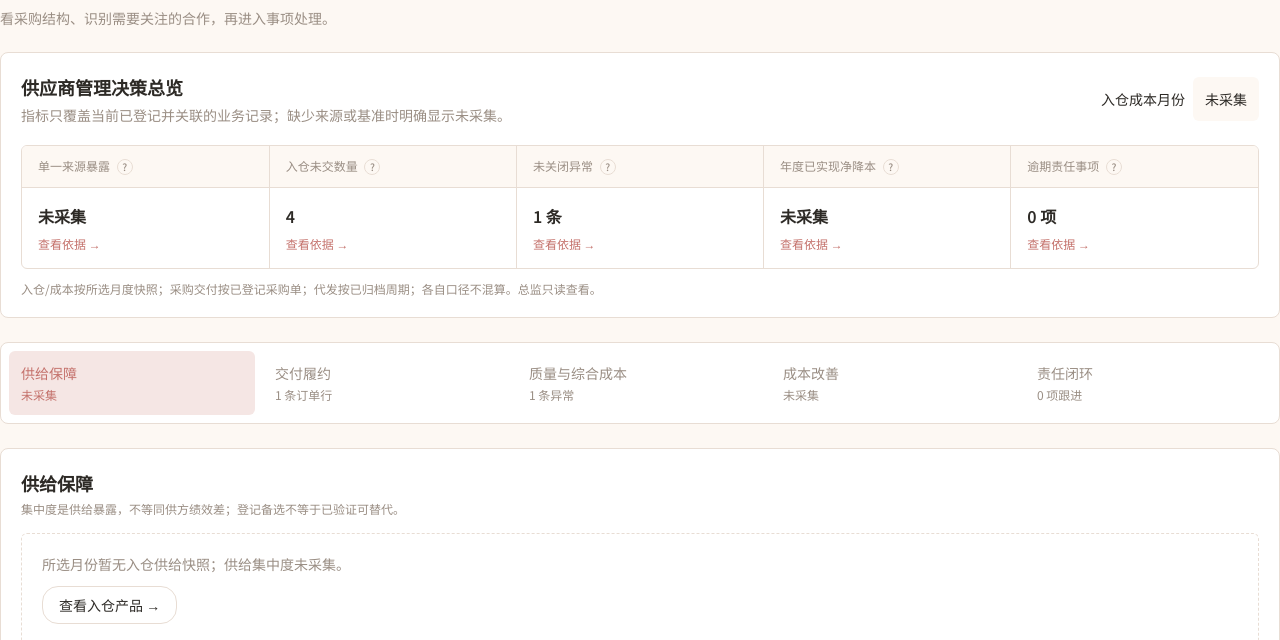
Test: shows procurement facts but never claims on-time arrival without a supplier promise date
This screenshot has width=1280, height=640.
Click the tab "交付履约 1 条订单行". click: point(386, 383)
box: [263,351,509,415]
(page scrolled)
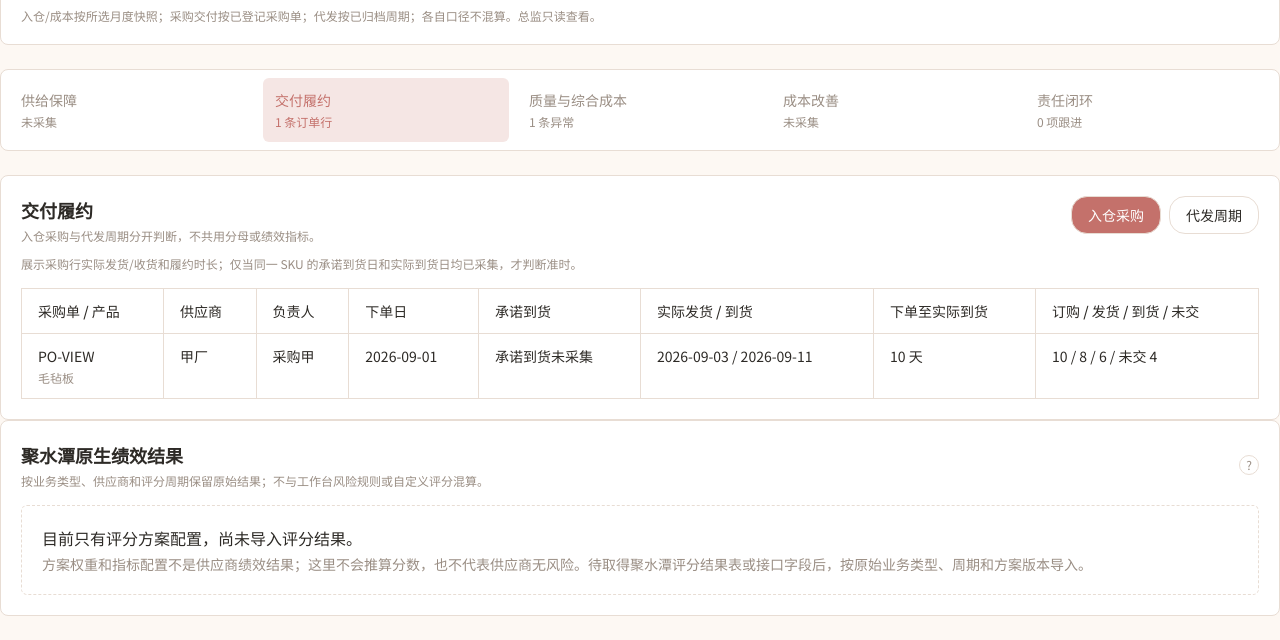
expect the table named "交付履约" shows "PO-VIEW": met, box [38,346,94,366]
expect the table named "交付履约" shows "未交 4": met, box [21,288,1259,399]
expect the table named "交付履约" shows "10 天": met, box [890,346,923,366]
